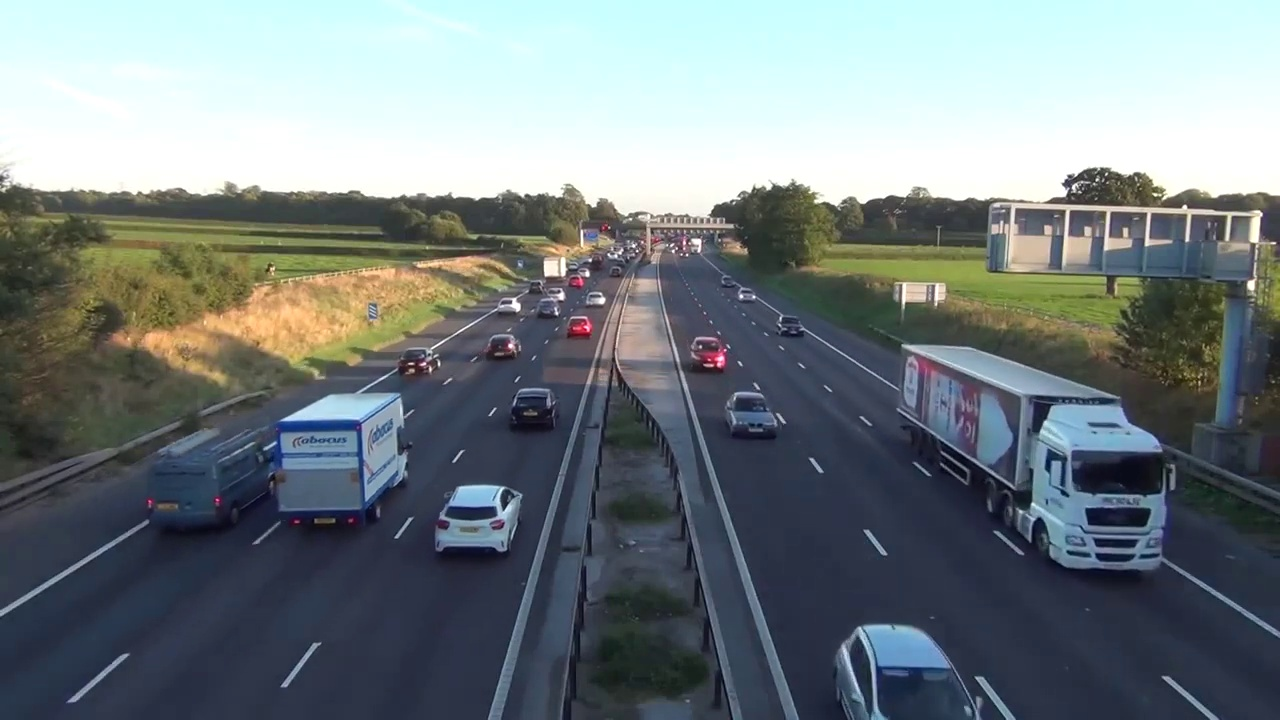bus: (831, 620, 983, 720), (434, 485, 524, 554), (722, 391, 780, 441), (509, 387, 560, 427), (686, 336, 728, 373), (397, 347, 442, 373), (486, 334, 521, 361), (566, 314, 594, 339), (535, 299, 563, 320), (776, 316, 802, 337), (498, 298, 522, 314), (737, 287, 756, 304), (586, 292, 606, 307), (720, 276, 736, 288)
car: (895, 341, 1179, 571), (272, 392, 411, 526), (134, 419, 280, 530)
